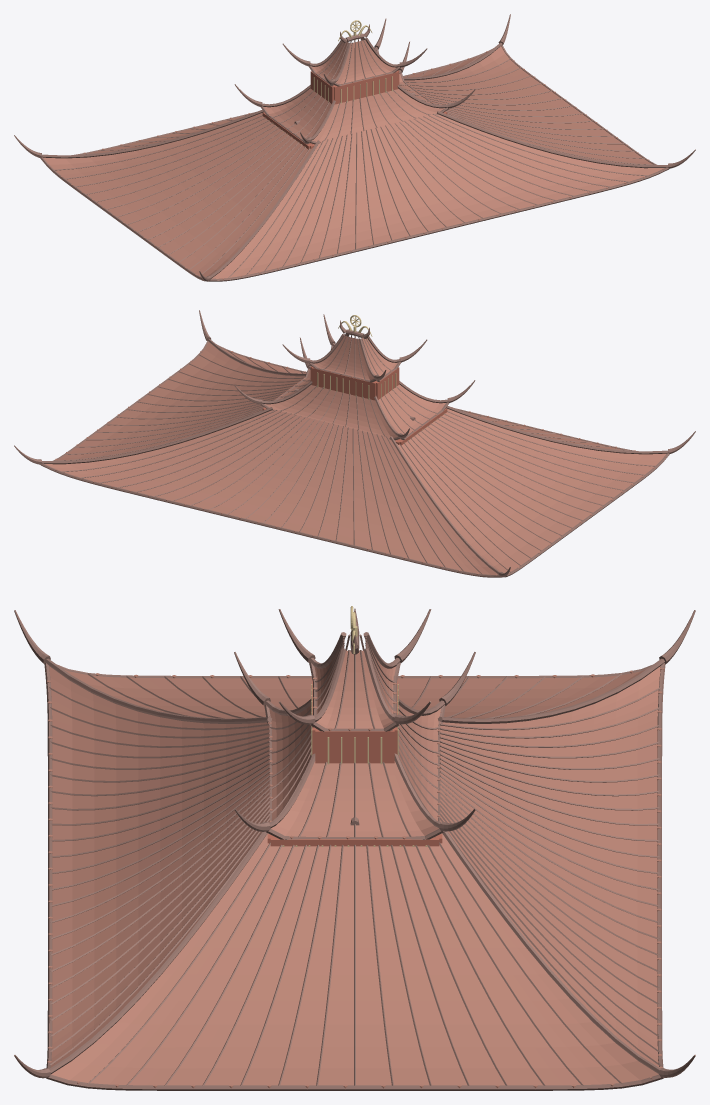
Rendered from chinh-dien-roof.glb.
3 views of the same model, one above another, from view 1: azimuth 30°, elevation 25°; view 2: azimuth 150°, elevation 25°; view 3: azimuth 270°, elevation 25° (orthographic). The views are drawn at different scales.
Visible parts, largest first — view 1: chinh-dien-roof-tile, chinh-dien-roof-tile-dark, chinh-dien-roof-red, chinh-dien-roof-gold; view 2: chinh-dien-roof-tile, chinh-dien-roof-tile-dark, chinh-dien-roof-red, chinh-dien-roof-gold; view 3: chinh-dien-roof-tile, chinh-dien-roof-tile-dark, chinh-dien-roof-red, chinh-dien-roof-gold.
Part boxes in pixels (left/top/right/bottom): chinh-dien-roof-tile: left=43, top=40, right=664, bottom=279; chinh-dien-roof-tile-dark: left=14, top=14, right=695, bottom=281; chinh-dien-roof-red: left=262, top=70, right=447, bottom=149; chinh-dien-roof-gold: left=265, top=20, right=392, bottom=147; chinh-dien-roof-tile: left=45, top=336, right=666, bottom=575; chinh-dien-roof-tile-dark: left=14, top=310, right=695, bottom=577; chinh-dien-roof-red: left=262, top=366, right=447, bottom=445; chinh-dien-roof-gold: left=317, top=315, right=444, bottom=443; chinh-dien-roof-tile: left=47, top=639, right=664, bottom=1088; chinh-dien-roof-tile-dark: left=14, top=608, right=695, bottom=1090; chinh-dien-roof-red: left=267, top=680, right=442, bottom=846; chinh-dien-roof-gold: left=282, top=606, right=427, bottom=846.
Size of the model in its own units: 42.44 by 12.38 by 27.44.
